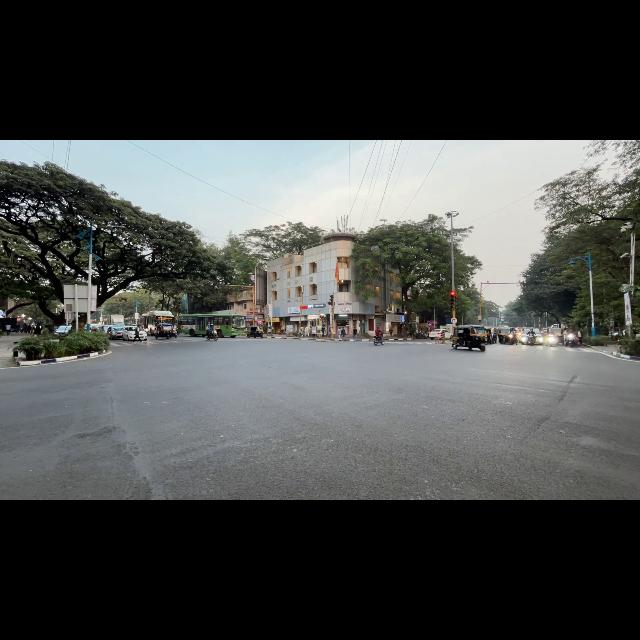bus: (178, 314, 246, 337), (139, 311, 174, 334)
car: (103, 325, 124, 339), (429, 329, 451, 339), (54, 326, 72, 338), (123, 326, 136, 340), (533, 328, 543, 344)
motorcycle: (565, 334, 578, 347), (544, 334, 557, 345), (505, 334, 517, 344), (206, 331, 218, 340), (374, 336, 384, 346), (526, 334, 535, 345), (414, 332, 428, 338)
truck: (104, 315, 124, 324)
